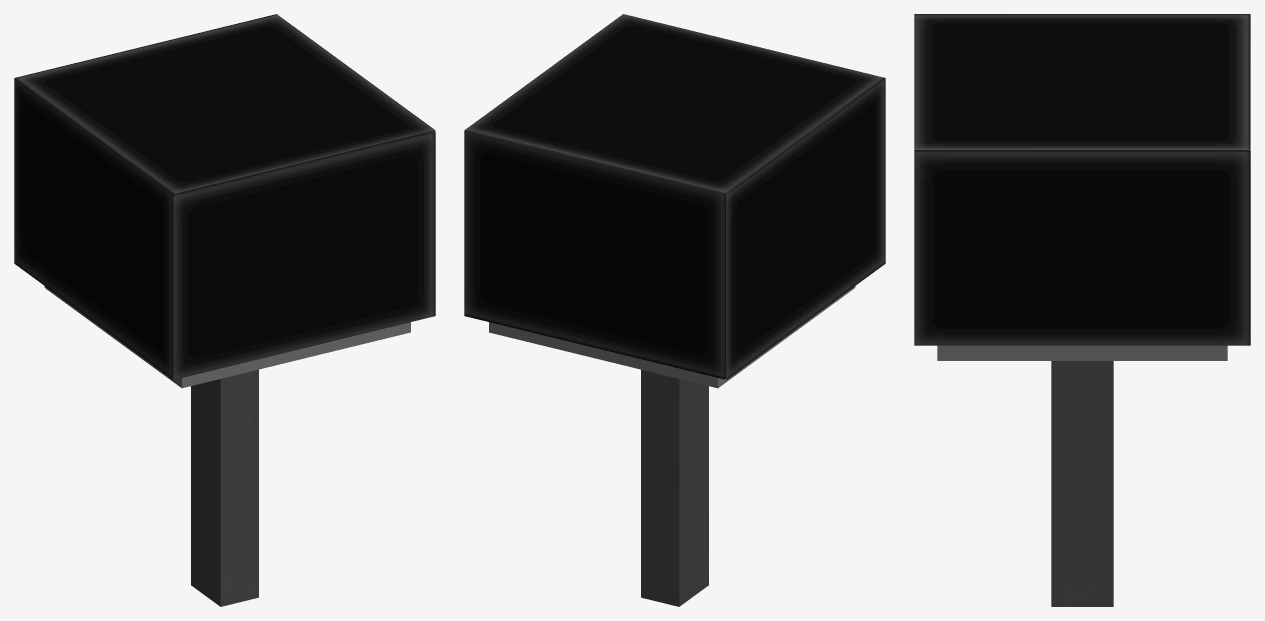
File: Room_Three.fbx
3 views of the same model, side by side, from view 1: azimuth 30°, elevation 25°; view 2: azimuth 150°, elevation 25°; view 3: azimuth 270°, elevation 25° (orthographic). The views are drawn at different scales.
Visible parts, largest first — view 1: Room, Cube; view 2: Room, Cube; view 3: Room, Cube.
Part boxes in pixels (x1,y1,x2,y2): Room: (14,14,435,606); Cube: (44,286,410,388); Room: (464,14,885,606); Cube: (489,286,855,388); Room: (914,14,1250,606); Cube: (937,345,1227,360).
Size of the model in its own units: 2155 by 3824 by 2263.
2 materials, 1 textured.
